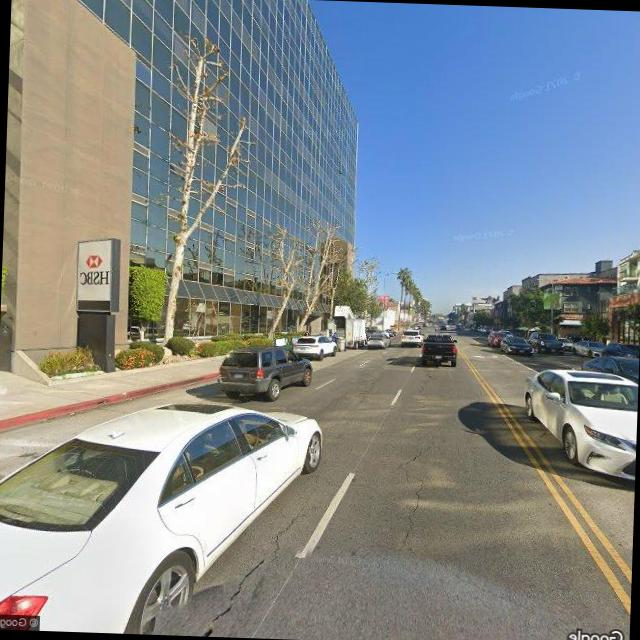pothole: (198, 499, 311, 635), (396, 433, 438, 556)
